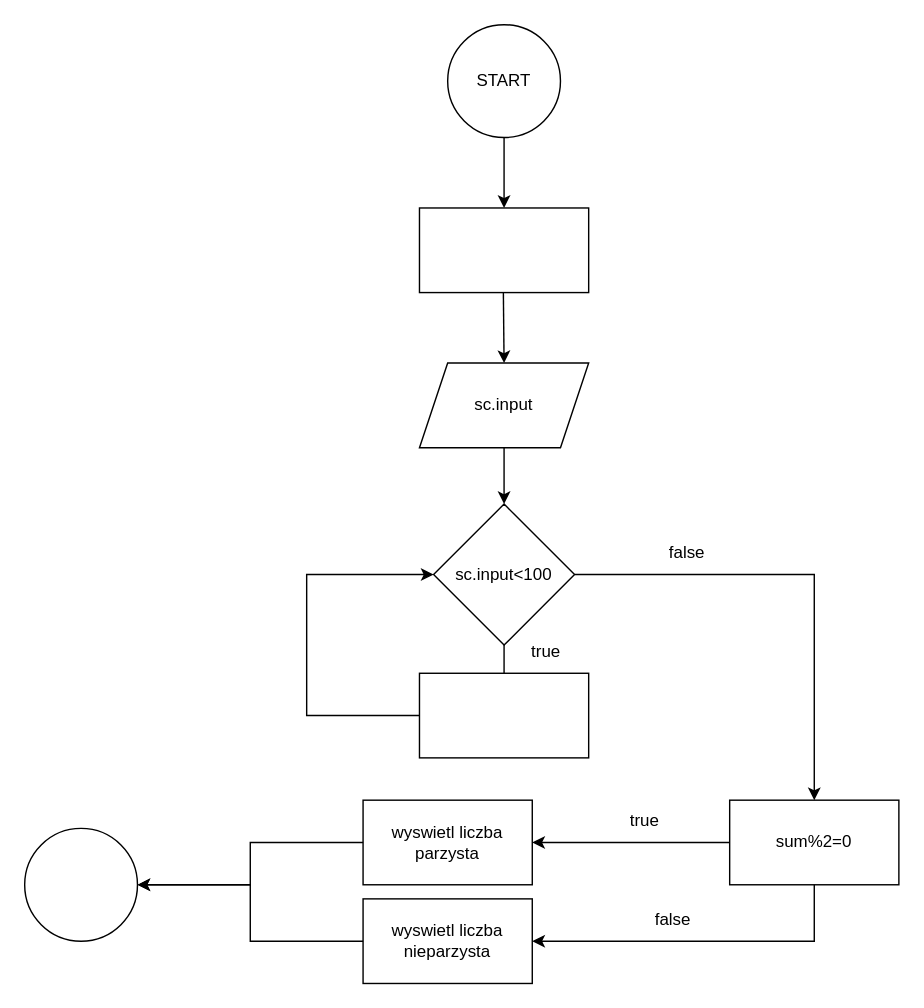
Image size: 924x1008. Some labels were removed from this diagram. Each missing label, with the centre of its shape:
fin: [80,884]
sum = 0: [503,250]
sum=sum+sc.input: [503,715]
